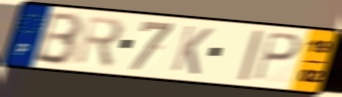7: (127, 20, 176, 72)
B: (32, 11, 86, 67)
I: (236, 28, 266, 82)
K: (169, 24, 215, 77)
P: (252, 30, 303, 83)
R: (73, 14, 126, 71)
